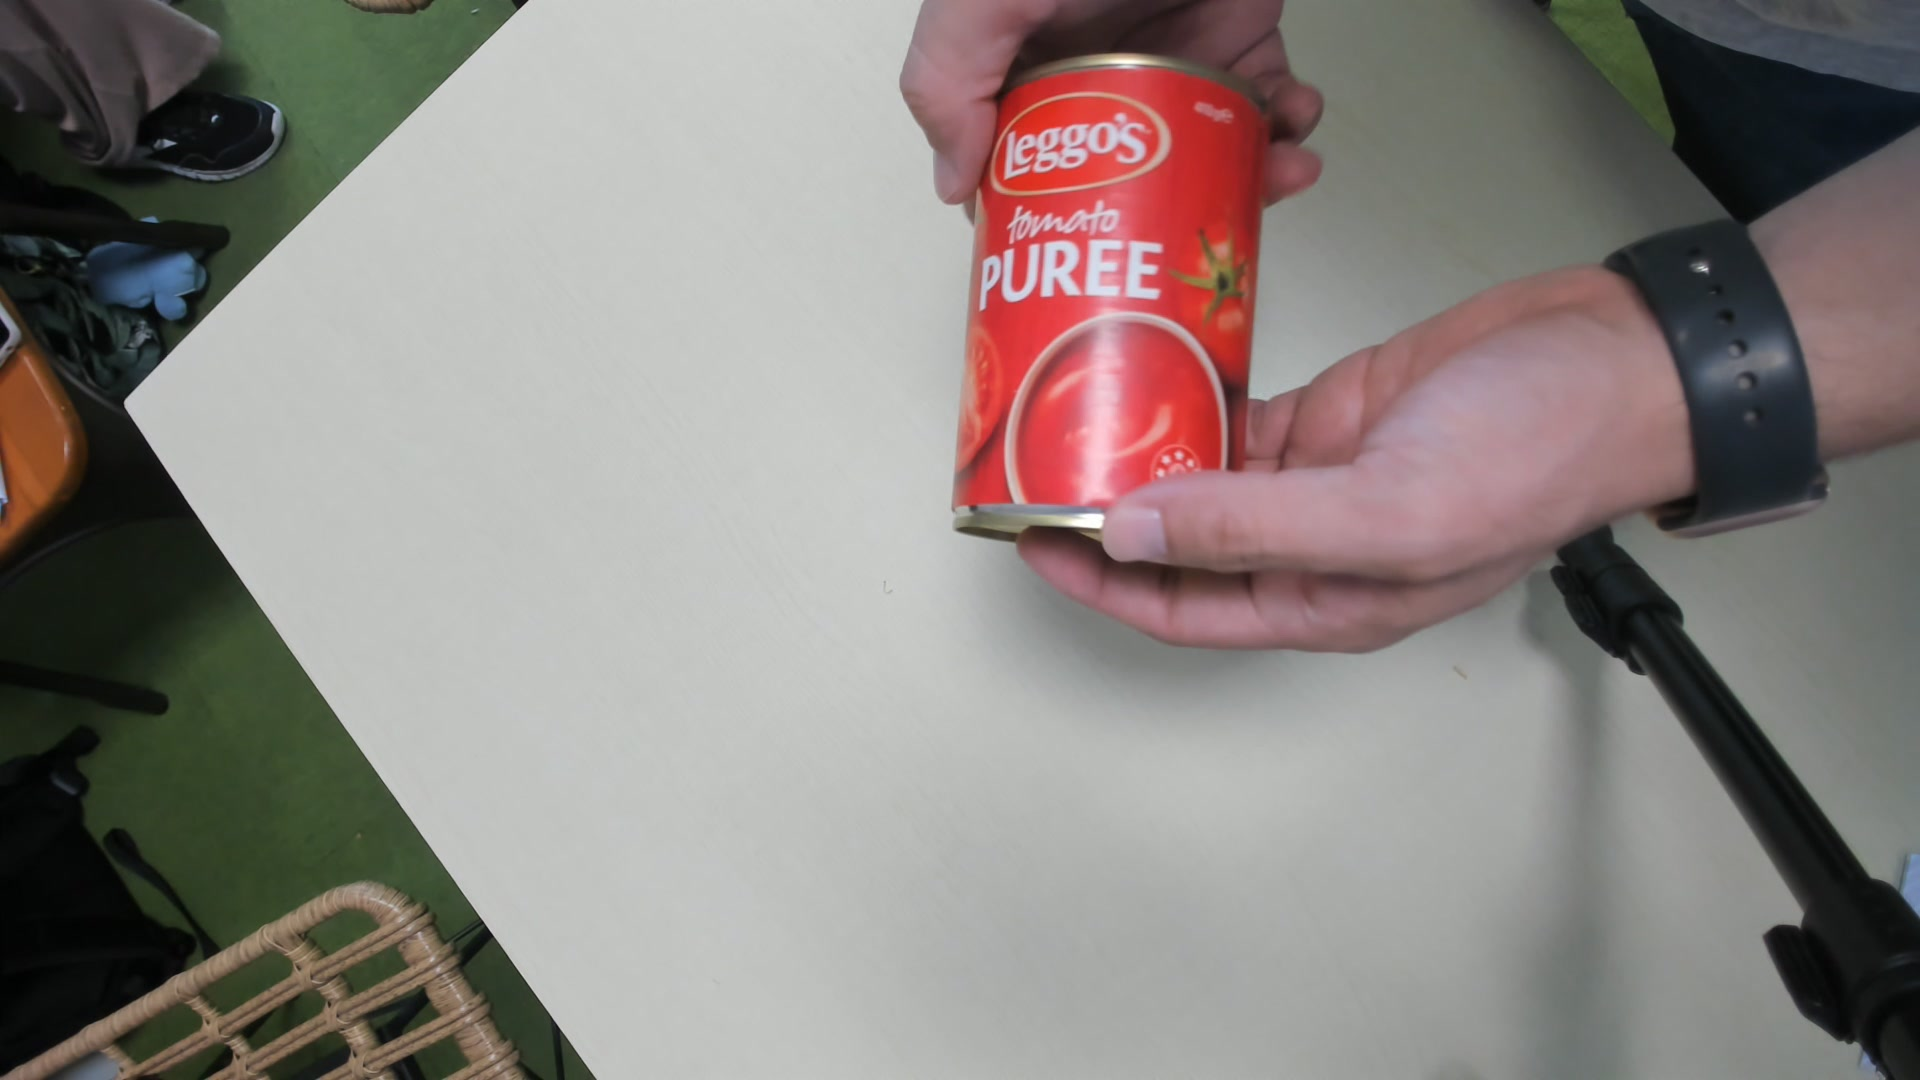OtherSauceDressingSoupbasePaste_400-499g_Halal_NonHealthy: (952, 55, 1265, 546)
